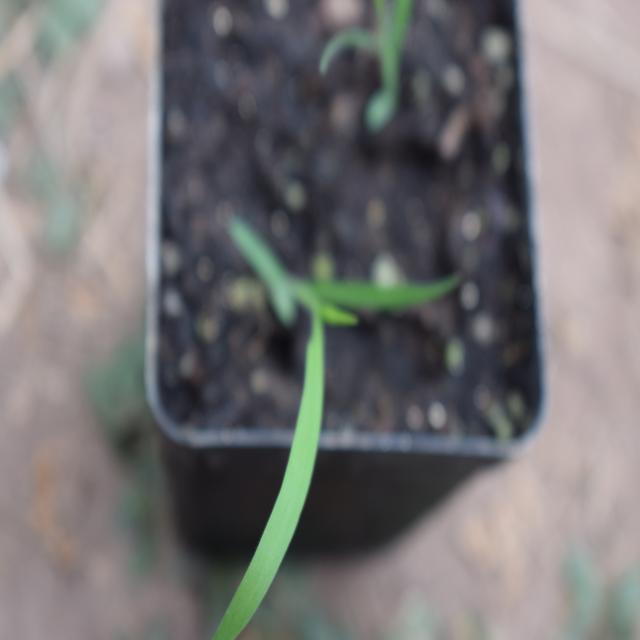crabgrass: (180, 233, 418, 639)
